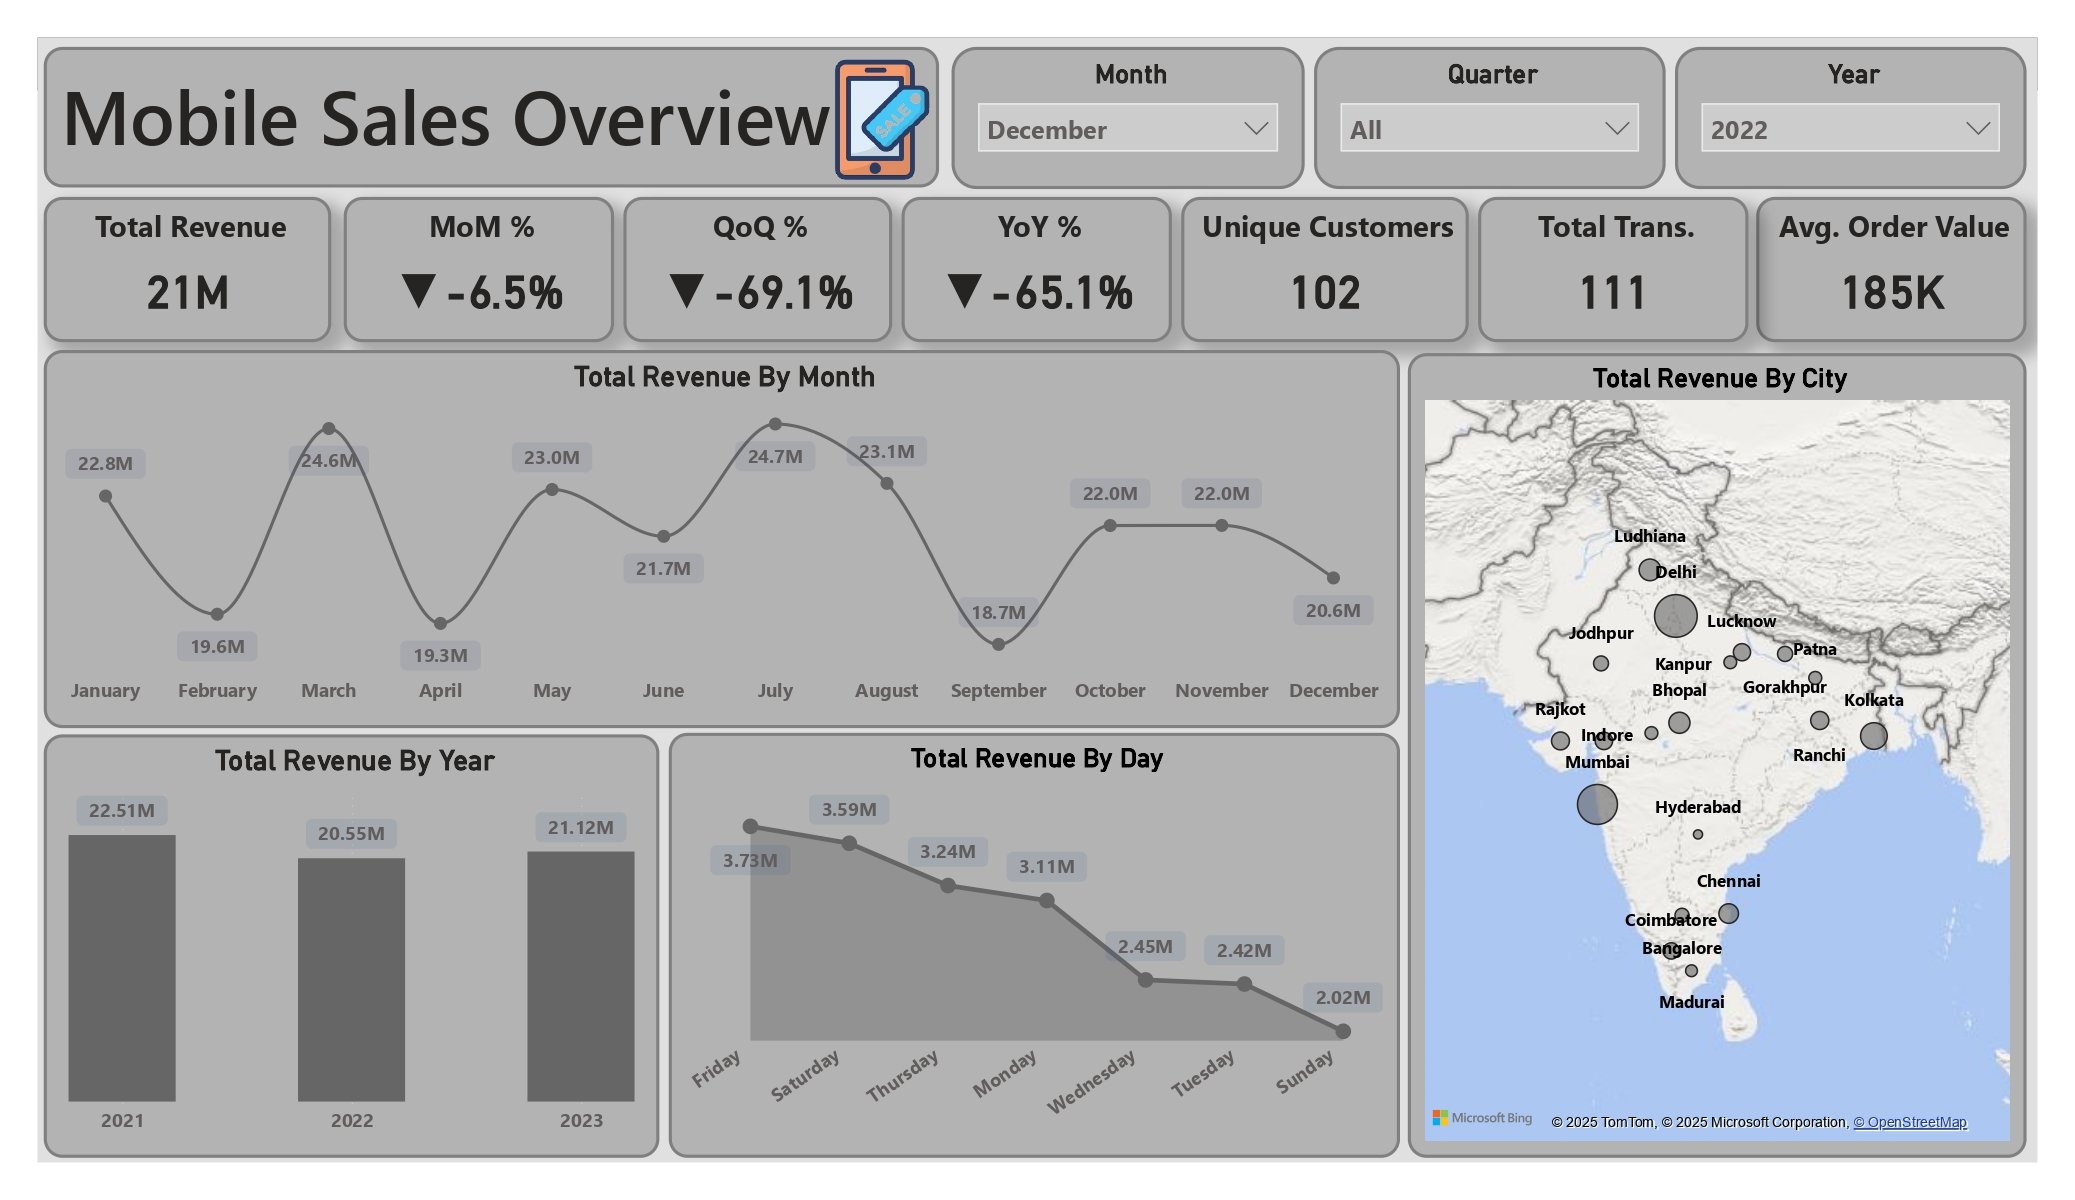

What the dashboard file says about the page in this screenshot:
{"tool":"powerbi","page":{"name":"Mobile Sales Overview","canvas":[1280,720],"ordinal":0},"visuals":[{"type":"card","title":"Total Revenue","fields":{"Values":["Mobile_Sales_Data.TotalSale"]},"box":[4.4,102.4,184,92.2],"z":0},{"type":"textbox","box":[4.3,5.8,573,90.7],"z":1000},{"type":"image","box":[501.1,11.5,79.2,80.6],"z":2000},{"type":"slicer","title":"Year","fields":{"Values":["Date.Date.Variation.Date Hierarchy.Year"]},"box":[1047.8,5.9,225.4,90.7],"z":3000},{"type":"slicer","title":"Month","fields":{"Values":["Date.Date.Variation.Date Hierarchy.Month"]},"box":[585.4,5.9,225.4,90.7],"z":4000},{"type":"slicer","title":"Quarter","fields":{"Values":["Date.Date.Variation.Date Hierarchy.Quarter"]},"box":[816.6,5.9,225.4,90.7],"z":5000},{"type":"card","title":"MoM %","fields":{"Values":["Mobile_Sales_Data.Mom% Display"]},"box":[196.1,102.4,172.7,92.2],"z":6000},{"type":"card","title":"QoQ %","fields":{"Values":["Mobile_Sales_Data.QoQ% Display"]},"box":[374.6,102.4,172.7,92.2],"z":7000},{"type":"card","title":"YoY %","fields":{"Values":["Mobile_Sales_Data.YoY% Display"]},"box":[553.2,102.4,172.7,92.2],"z":8000},{"type":"card","title":"Unique Customers","fields":{"Values":["Mobile_Sales_Data.Total Customers"]},"box":[731.7,102.4,184.4,92.2],"z":9000},{"type":"card","title":"Avg. Order Value","fields":{"Values":["Mobile_Sales_Data.AverageOrderValue"]},"box":[1100.5,102.4,172.7,92.2],"z":10000},{"type":"card","title":"Total Trans.","fields":{"Values":["CountNonNull(Mobile_Sales_Data.Transaction ID)"]},"box":[922,102.4,172.7,92.2],"z":11000},{"type":"areaChart","title":"Total Revenue By Day","fields":{"Category":["Date.Day Name"],"Y":["Mobile_Sales_Data.TotalSale"]},"box":[403.9,444.9,468.3,272.2],"z":12000},{"type":"lineChart","title":"Total Revenue By Month ","fields":{"Category":["Date.Date.Variation.Date Hierarchy.Month"],"Y":["Mobile_Sales_Data.TotalSale"]},"box":[4.4,200.5,868,241.5],"z":13000},{"type":"columnChart","title":"Total Revenue By Year","fields":{"Category":["Date.Date.Variation.Date Hierarchy.Year"],"Y":["Mobile_Sales_Data.TotalSale"]},"box":[4.4,446.3,393.7,270.7],"z":14000},{"type":"map","title":"Total Revenue By City","fields":{"Category":["Mobile_Sales_Data.City"],"Size":["Mobile_Sales_Data.TotalSale"]},"box":[876.6,202,396.6,515.1],"z":15000}]}

Visuals, with their boxes on the page's 1280x720 design canvas (x1, y1, x2, y2). These are canvas units, not pixel positions in the 2075x1200 screenshot, which may show the page scaled, cropped or inside an application window:
"Total Revenue" card: bbox=[4, 102, 188, 195]
textbox: bbox=[4, 6, 577, 96]
image: bbox=[501, 12, 580, 92]
"Year" slicer: bbox=[1048, 6, 1273, 97]
"Month" slicer: bbox=[585, 6, 811, 97]
"Quarter" slicer: bbox=[817, 6, 1042, 97]
"MoM %" card: bbox=[196, 102, 369, 195]
"QoQ %" card: bbox=[375, 102, 547, 195]
"YoY %" card: bbox=[553, 102, 726, 195]
"Unique Customers" card: bbox=[732, 102, 916, 195]
"Avg. Order Value" card: bbox=[1100, 102, 1273, 195]
"Total Trans." card: bbox=[922, 102, 1095, 195]
"Total Revenue By Day" areaChart: bbox=[404, 445, 872, 717]
"Total Revenue By Month " lineChart: bbox=[4, 200, 872, 442]
"Total Revenue By Year" columnChart: bbox=[4, 446, 398, 717]
"Total Revenue By City" map: bbox=[877, 202, 1273, 717]
